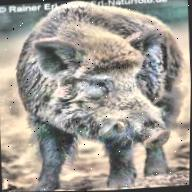boar: (6, 0, 192, 192)
